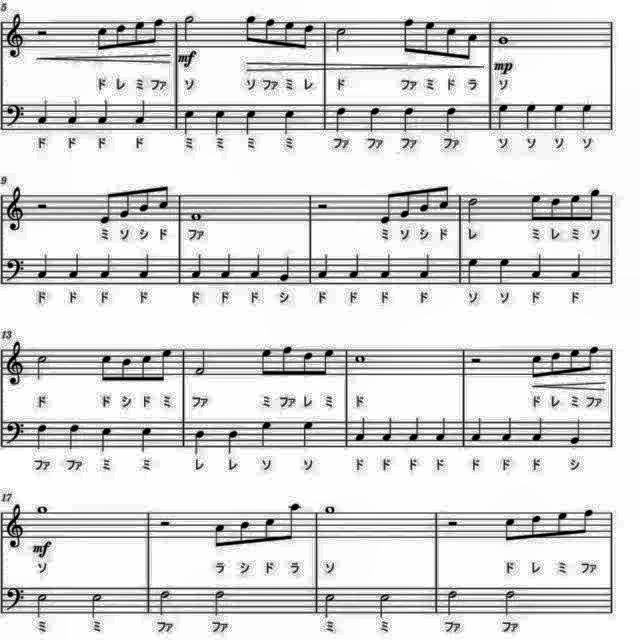Bass-clef: (1, 582, 26, 614), (2, 99, 28, 129), (2, 255, 26, 285), (2, 418, 26, 447)
Eighth-note: (282, 502, 302, 546), (400, 14, 420, 56), (158, 344, 176, 386), (421, 15, 439, 57), (375, 187, 393, 227), (443, 21, 461, 59), (586, 186, 604, 224), (95, 189, 113, 227), (90, 19, 110, 53), (97, 350, 115, 386), (210, 518, 230, 550), (528, 513, 548, 545), (461, 31, 479, 65), (279, 342, 295, 378), (577, 505, 595, 537), (235, 516, 253, 548), (502, 514, 520, 546), (298, 19, 316, 51), (260, 344, 276, 380), (263, 16, 279, 50), (280, 18, 296, 52), (554, 508, 570, 542), (438, 178, 454, 212), (320, 345, 336, 379), (138, 352, 154, 384), (132, 18, 148, 50), (566, 344, 582, 376), (262, 514, 278, 546), (548, 346, 564, 378), (566, 190, 582, 222), (586, 342, 602, 374), (136, 184, 152, 216), (157, 181, 173, 213), (149, 15, 165, 47), (116, 188, 132, 220), (416, 184, 432, 216), (112, 20, 128, 52), (530, 192, 546, 224), (240, 12, 256, 44), (528, 348, 544, 379), (117, 353, 133, 383), (300, 348, 316, 378), (398, 187, 412, 221), (548, 194, 564, 223)
Full-note: (496, 32, 512, 48), (352, 350, 368, 366), (186, 210, 204, 224), (322, 502, 338, 516), (35, 504, 53, 516)
Half-note: (193, 343, 211, 377), (33, 350, 51, 382), (377, 588, 395, 620), (500, 586, 518, 618), (157, 586, 175, 618), (464, 194, 481, 226), (210, 587, 228, 617), (334, 23, 351, 53), (321, 590, 339, 618), (180, 13, 196, 44), (90, 589, 106, 619), (32, 587, 48, 617), (442, 585, 458, 615)
Half-rest: (32, 198, 52, 214), (157, 516, 176, 532), (444, 516, 462, 532), (314, 199, 332, 213), (33, 25, 51, 39), (469, 354, 486, 366)
Quarter-note: (493, 100, 511, 132), (463, 254, 481, 286), (522, 100, 540, 132), (378, 252, 396, 284), (65, 422, 83, 454), (137, 424, 155, 456), (566, 417, 584, 448), (188, 252, 205, 284), (257, 420, 275, 450), (528, 252, 546, 282), (399, 104, 417, 134), (240, 109, 258, 139), (443, 104, 461, 134), (568, 252, 584, 284), (138, 252, 154, 284), (32, 420, 48, 452), (552, 100, 568, 132), (418, 252, 434, 284), (66, 252, 82, 284), (496, 256, 512, 288), (346, 252, 362, 284), (300, 420, 316, 452), (218, 252, 234, 284), (580, 100, 596, 132), (334, 103, 351, 133), (365, 104, 383, 132), (280, 108, 298, 136), (189, 429, 207, 457), (33, 253, 49, 284), (180, 109, 197, 138), (223, 428, 240, 457), (318, 253, 334, 283), (98, 253, 114, 283), (134, 95, 150, 125), (212, 107, 228, 137), (353, 414, 369, 444), (278, 255, 294, 285), (98, 425, 114, 455), (248, 252, 264, 282), (407, 413, 423, 442), (96, 98, 112, 126), (65, 98, 81, 126), (377, 416, 393, 444), (500, 416, 516, 444), (472, 416, 488, 444), (532, 416, 548, 444), (35, 98, 51, 126), (432, 416, 448, 444)
Treble-clef: (2, 12, 28, 62), (3, 184, 27, 236), (3, 338, 27, 389), (3, 503, 27, 551)
